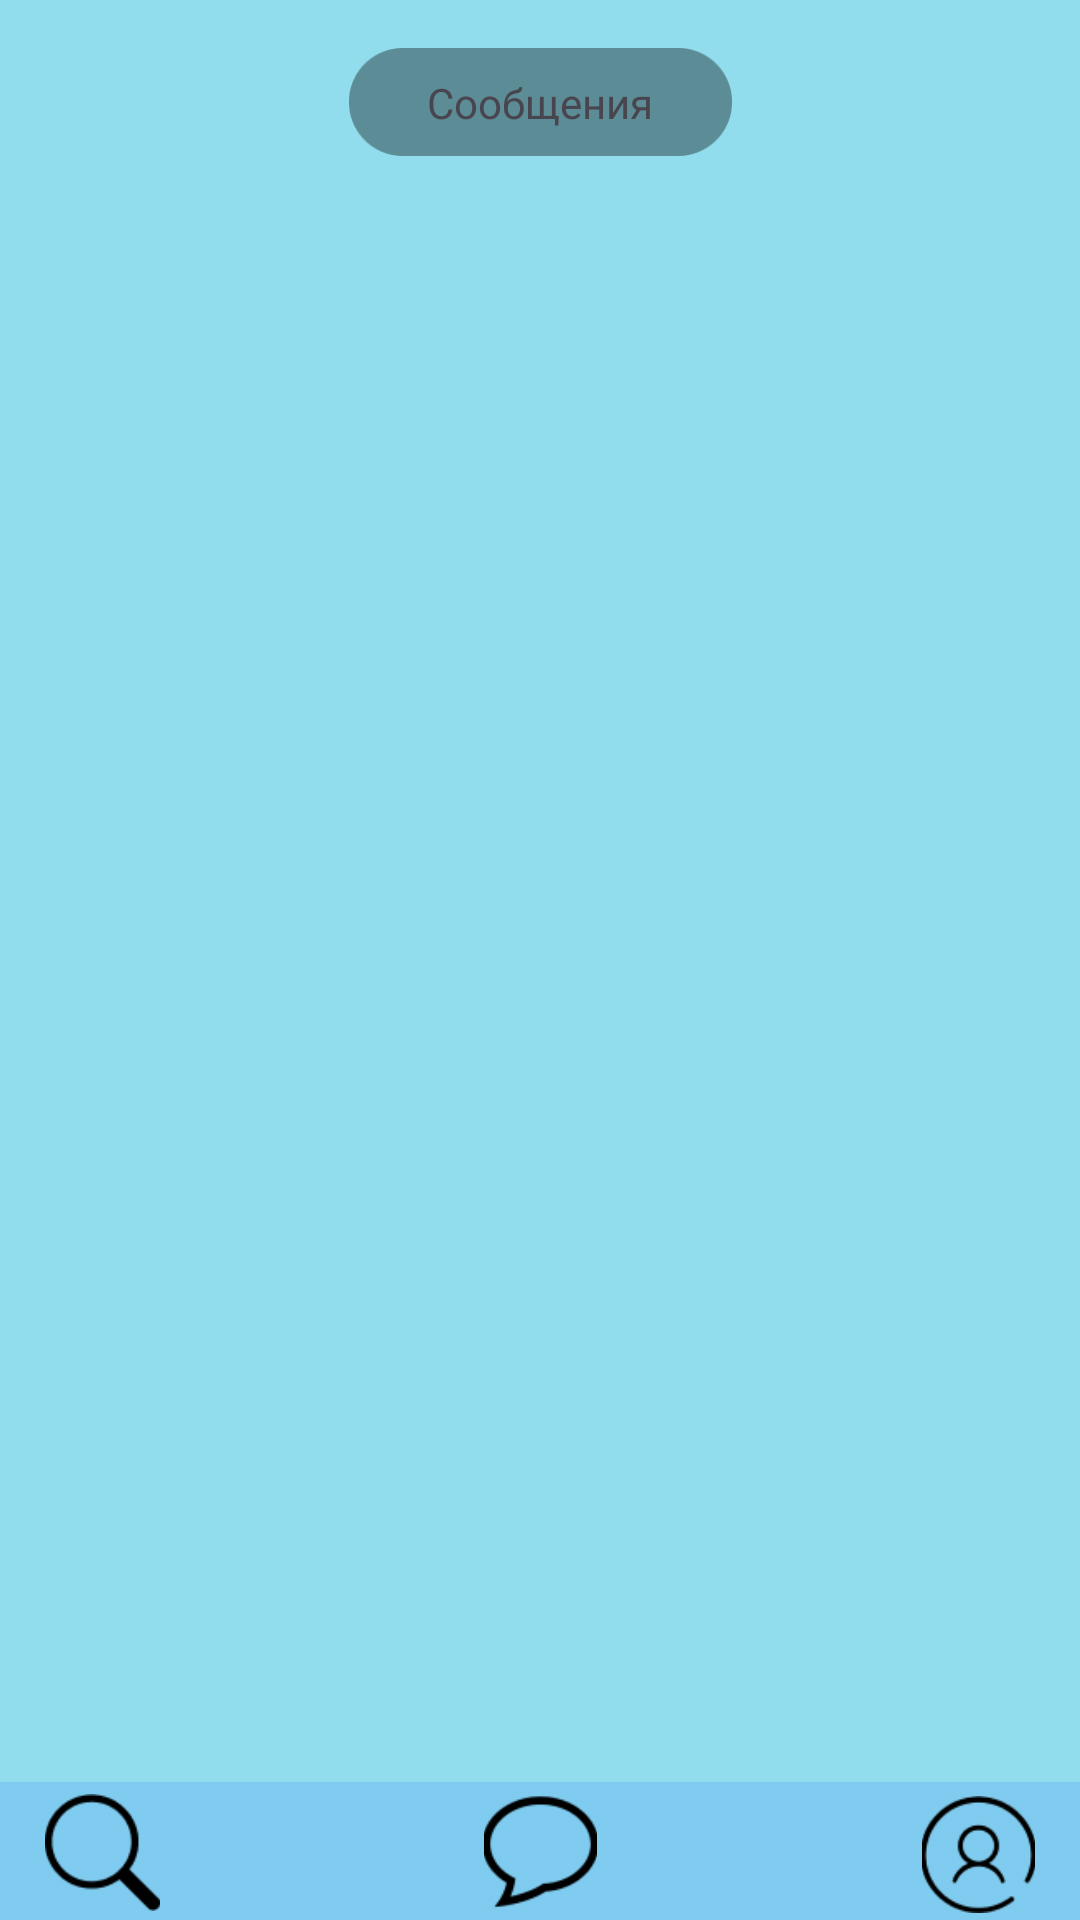

Named icons in this screenshot (1080x1920) and their centers, (x=x, y=y):
messagemenu: (x=540, y=1851)
profilemenu: (x=978, y=1854)
searchmenu: (x=102, y=1852)
